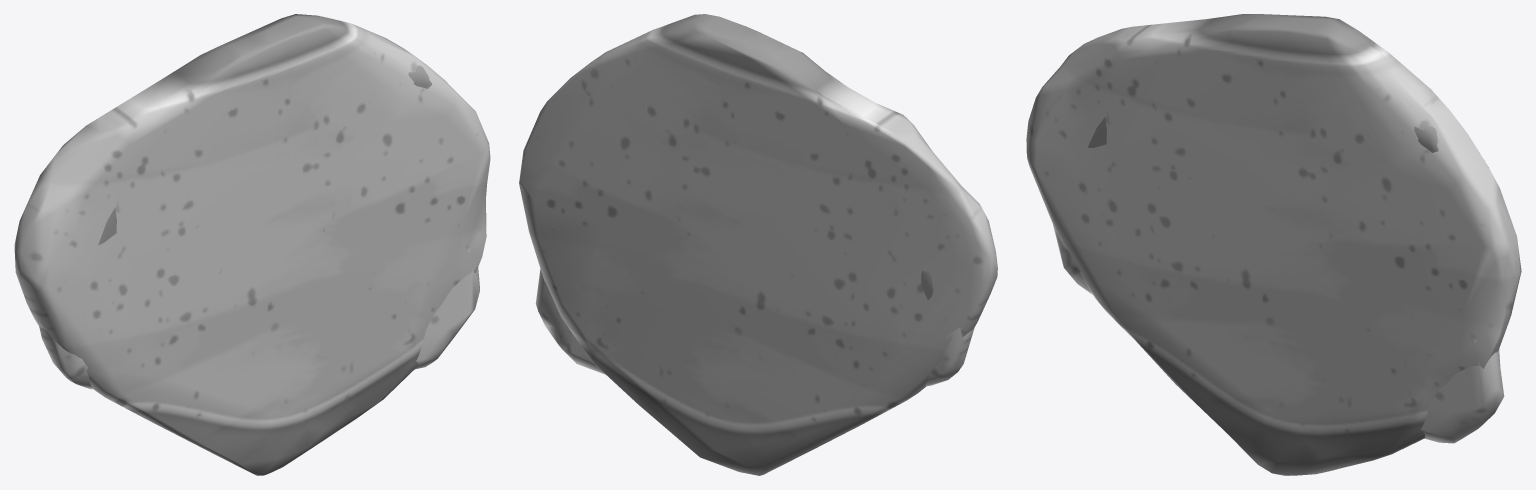
Rendered from SM_UI_BGRoomDec.fbx.
The picture shows the model from 3 angles, left to right: view 1: azimuth 30°, elevation 25°; view 2: azimuth 150°, elevation 25°; view 3: azimuth 330°, elevation 25°; orthographic projection. The views are drawn at different scales.
Parts seen in each view (by area): view 1: SM_UI_BGRoomDec_Tuto_01, SM_UI_BGRoomDec_Tuto_02; view 2: SM_UI_BGRoomDec_Tuto_01, SM_UI_BGRoomDec_Tuto_02; view 3: SM_UI_BGRoomDec_Tuto_01, SM_UI_BGRoomDec_Tuto_02.
Boxes of the visible parts, bbox=[...] form: SM_UI_BGRoomDec_Tuto_01: bbox=[14, 14, 490, 475]; SM_UI_BGRoomDec_Tuto_02: bbox=[39, 65, 479, 389]; SM_UI_BGRoomDec_Tuto_01: bbox=[519, 14, 997, 475]; SM_UI_BGRoomDec_Tuto_02: bbox=[535, 269, 974, 386]; SM_UI_BGRoomDec_Tuto_01: bbox=[1026, 14, 1521, 475]; SM_UI_BGRoomDec_Tuto_02: bbox=[1053, 126, 1504, 443].
Size of the model in its own units: 24.59 by 22.14 by 2.24.
